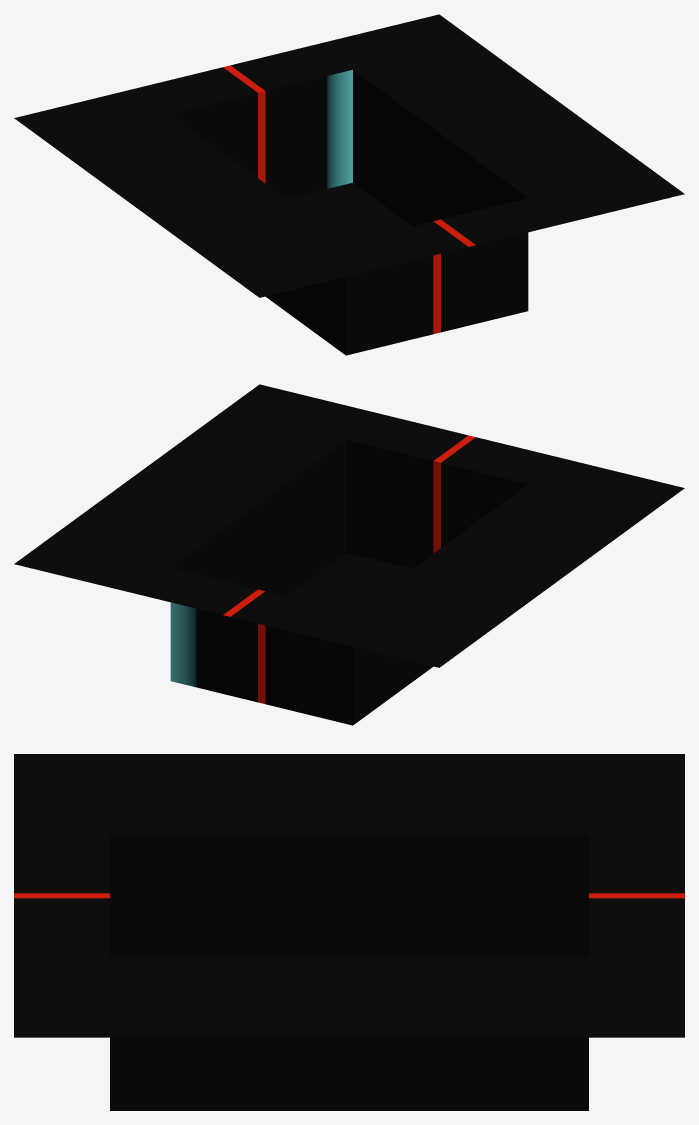
The model's file is Pool.fbx.
3 renders of one model, top to bottom at view 1: azimuth 30°, elevation 25°; view 2: azimuth 150°, elevation 25°; view 3: azimuth 270°, elevation 25°, orthographic. The views are drawn at different scales.
Parts seen in each view (by area): view 1: Pool; view 2: Pool; view 3: Pool.
Boxes of the visible parts, box(x1,y1,x2,y2) form: Pool: box(14, 14, 684, 355); Pool: box(14, 384, 684, 725); Pool: box(14, 754, 684, 1110).
Bounding box in the file's own units: 16.02 × 4.07 × 16.02.
